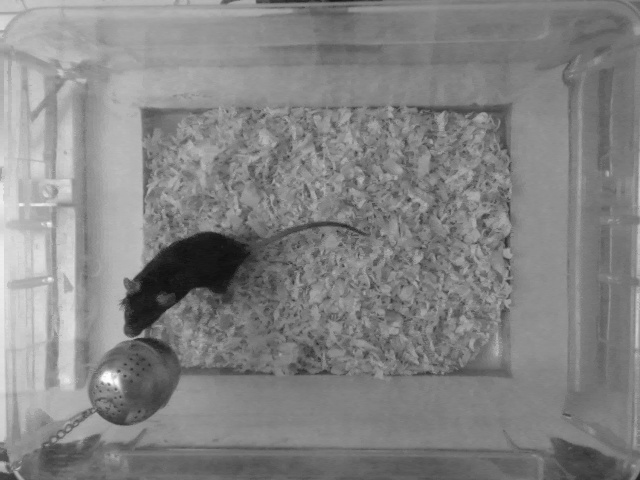mice: (119, 217, 370, 338)
